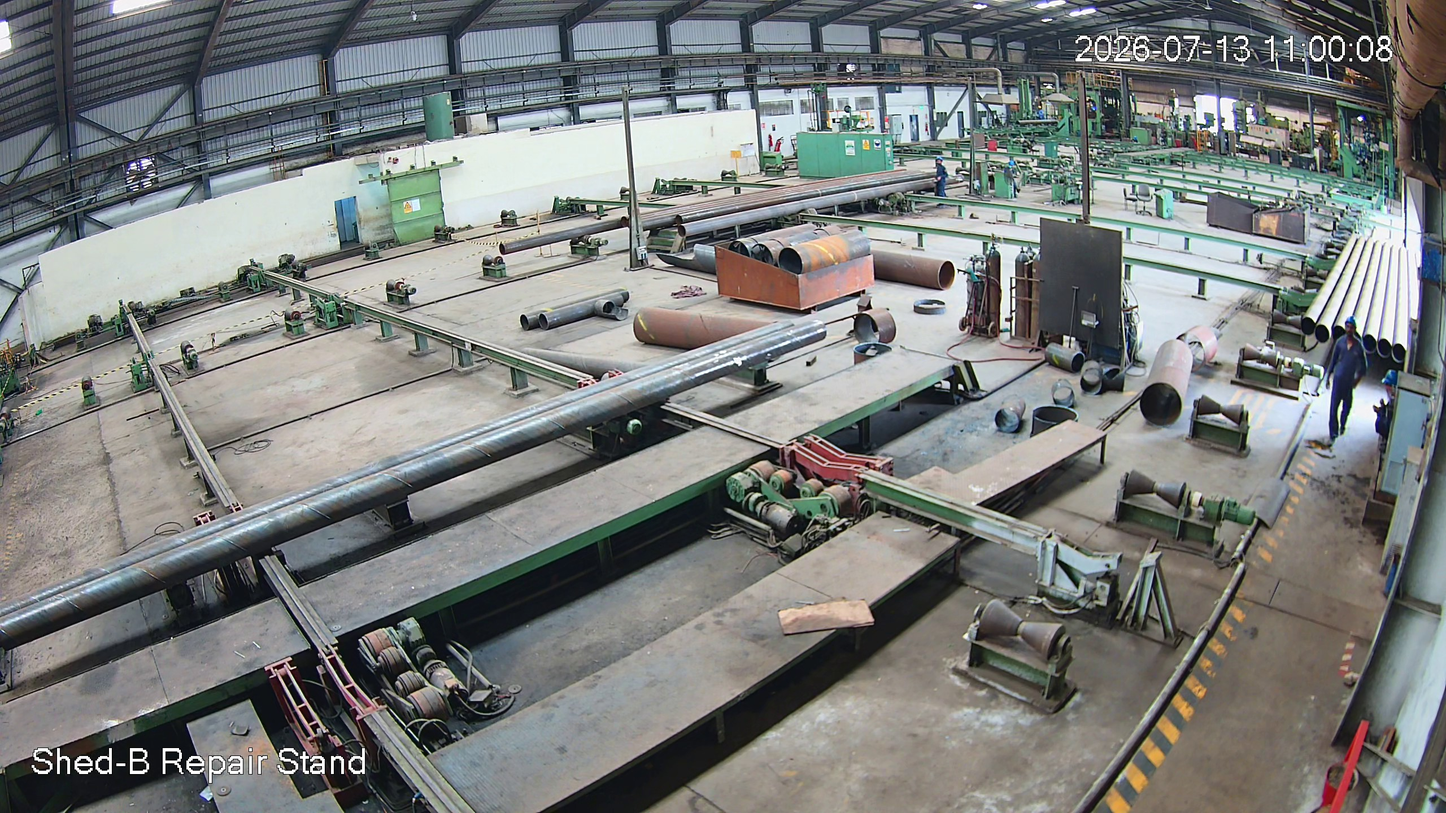Helmet: (1342, 314, 1361, 341)
Person: (1327, 316, 1363, 439)
